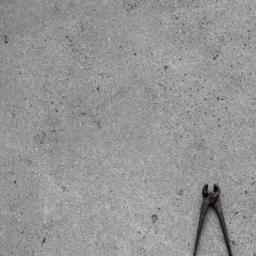FOD: (193, 182, 235, 256)
